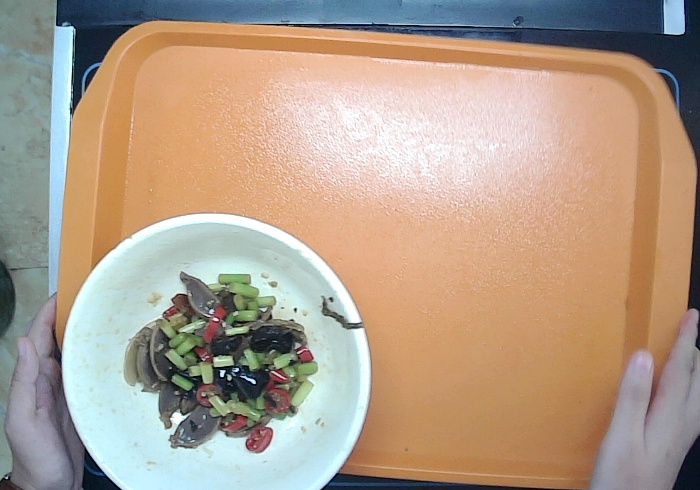ZNLD-Da_Tang_Wan: (57, 209, 372, 490)
